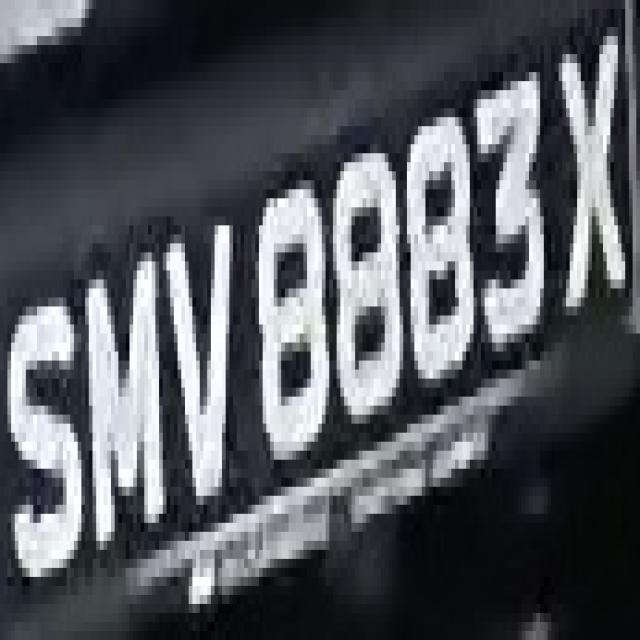3: (474, 36, 551, 397)
8: (248, 162, 329, 478), (403, 90, 477, 433), (329, 135, 403, 469)
M: (82, 234, 166, 550)
S: (15, 252, 85, 631)
V: (163, 189, 237, 514)
X: (544, 18, 632, 352)
